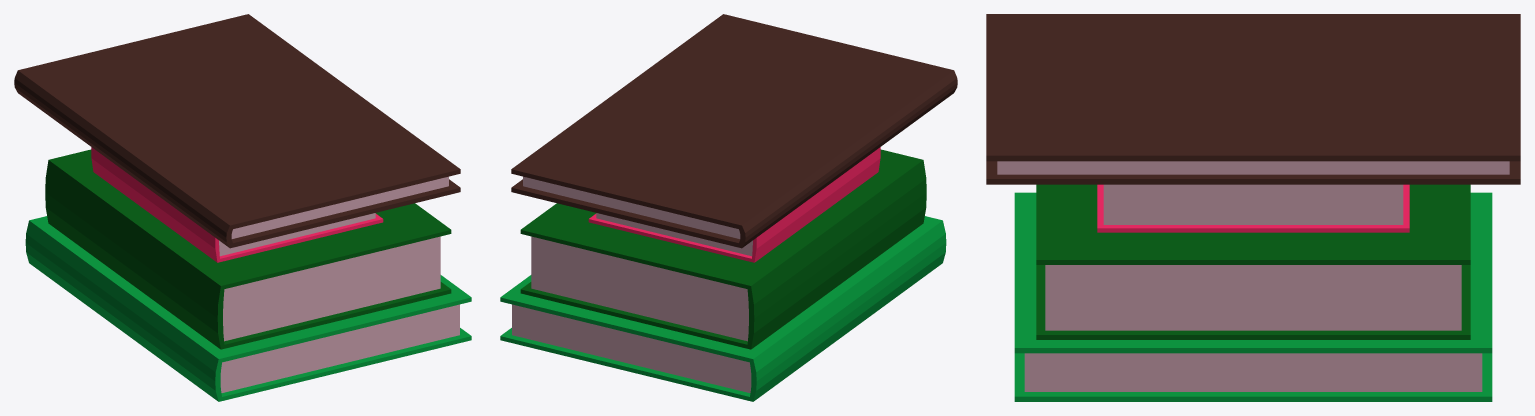
File: LIBROS.obj
3 renders of one model, left to right at view 1: azimuth 30°, elevation 25°; view 2: azimuth 150°, elevation 25°; view 3: azimuth 270°, elevation 25°, orthographic. The views are drawn at different scales.
Visible parts, largest first — view 1: LIBROS; view 2: LIBROS; view 3: LIBROS.
Part boxes in pixels (bbox=[...]): LIBROS: bbox=[14, 14, 471, 401]; LIBROS: bbox=[500, 14, 957, 401]; LIBROS: bbox=[986, 14, 1520, 401].
Size of the model in its own units: 0.1329 by 0.0914 by 0.1903.
Materials: 1 (1 with a texture image).
